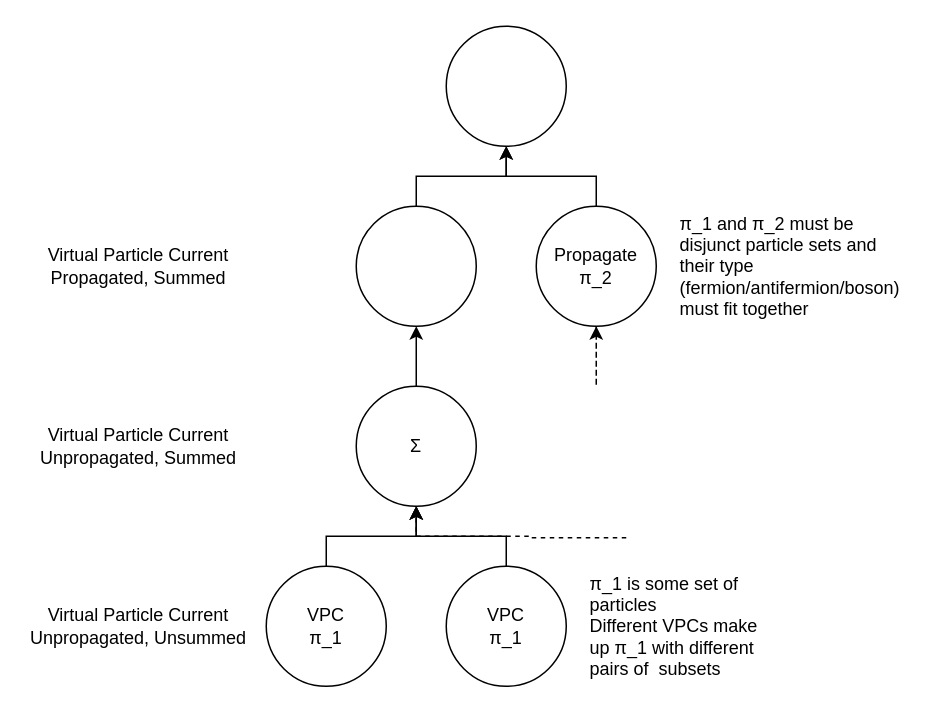
This 936x720 diagram has some shape labels left out. Each missing label, with the centre of its shape:
mul with vertex -> VPC π = π_1 ∪ π_2: the point at 505,85
Propagate π_1: the point at 415,265
